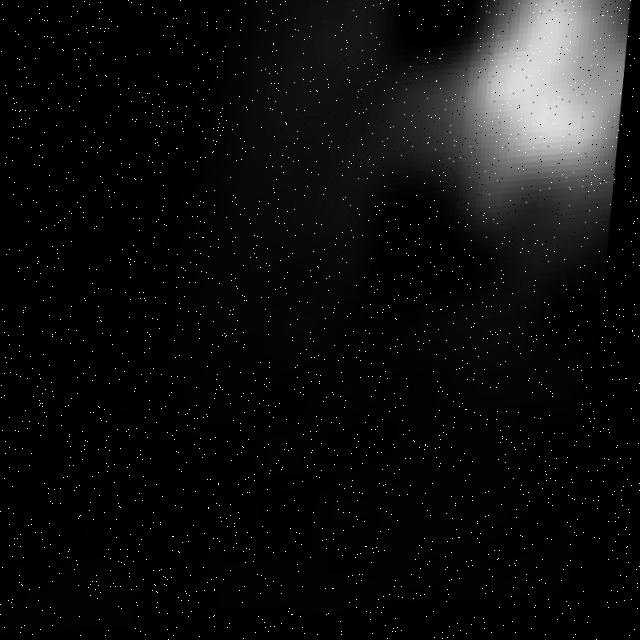person: (349, 1, 640, 346)
